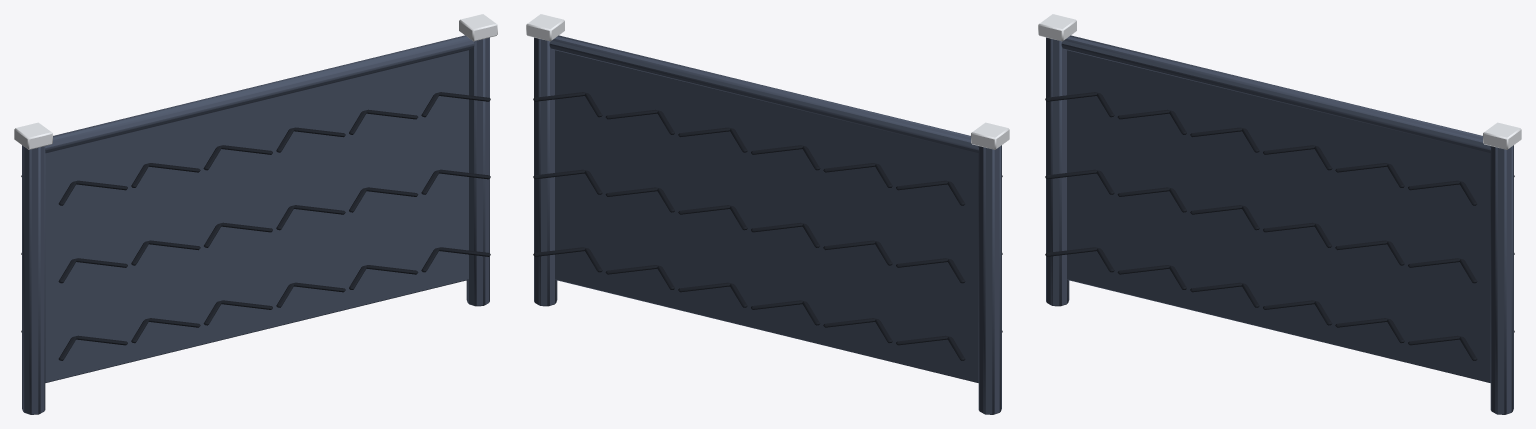
Rendered from fence_seg.glb.
The picture shows the model from 3 angles, left to right: view 1: azimuth 30°, elevation 25°; view 2: azimuth 150°, elevation 25°; view 3: azimuth 330°, elevation 25°; orthographic projection.
Visible parts, largest first — view 1: fence_seg; view 2: fence_seg; view 3: fence_seg.
Boxes of the visible parts, box(x1,y1,x2,y2) form: fence_seg: box(14, 14, 497, 414); fence_seg: box(526, 14, 1009, 414); fence_seg: box(1038, 14, 1521, 414).
Bounding box in the file's own units: 2.01 × 1.14 × 0.2983.
